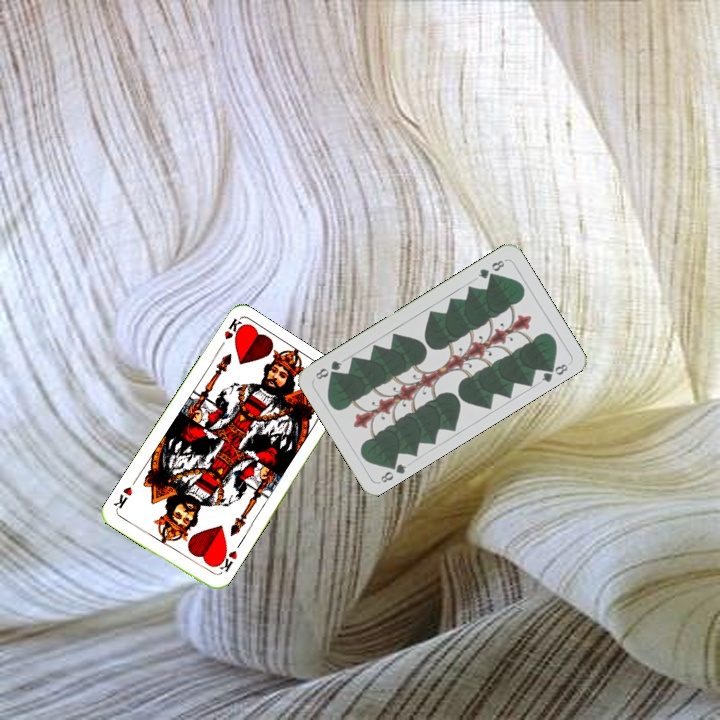G8: (376, 456, 409, 485), (474, 256, 508, 281)
HK: (214, 315, 246, 353), (212, 546, 240, 577)
